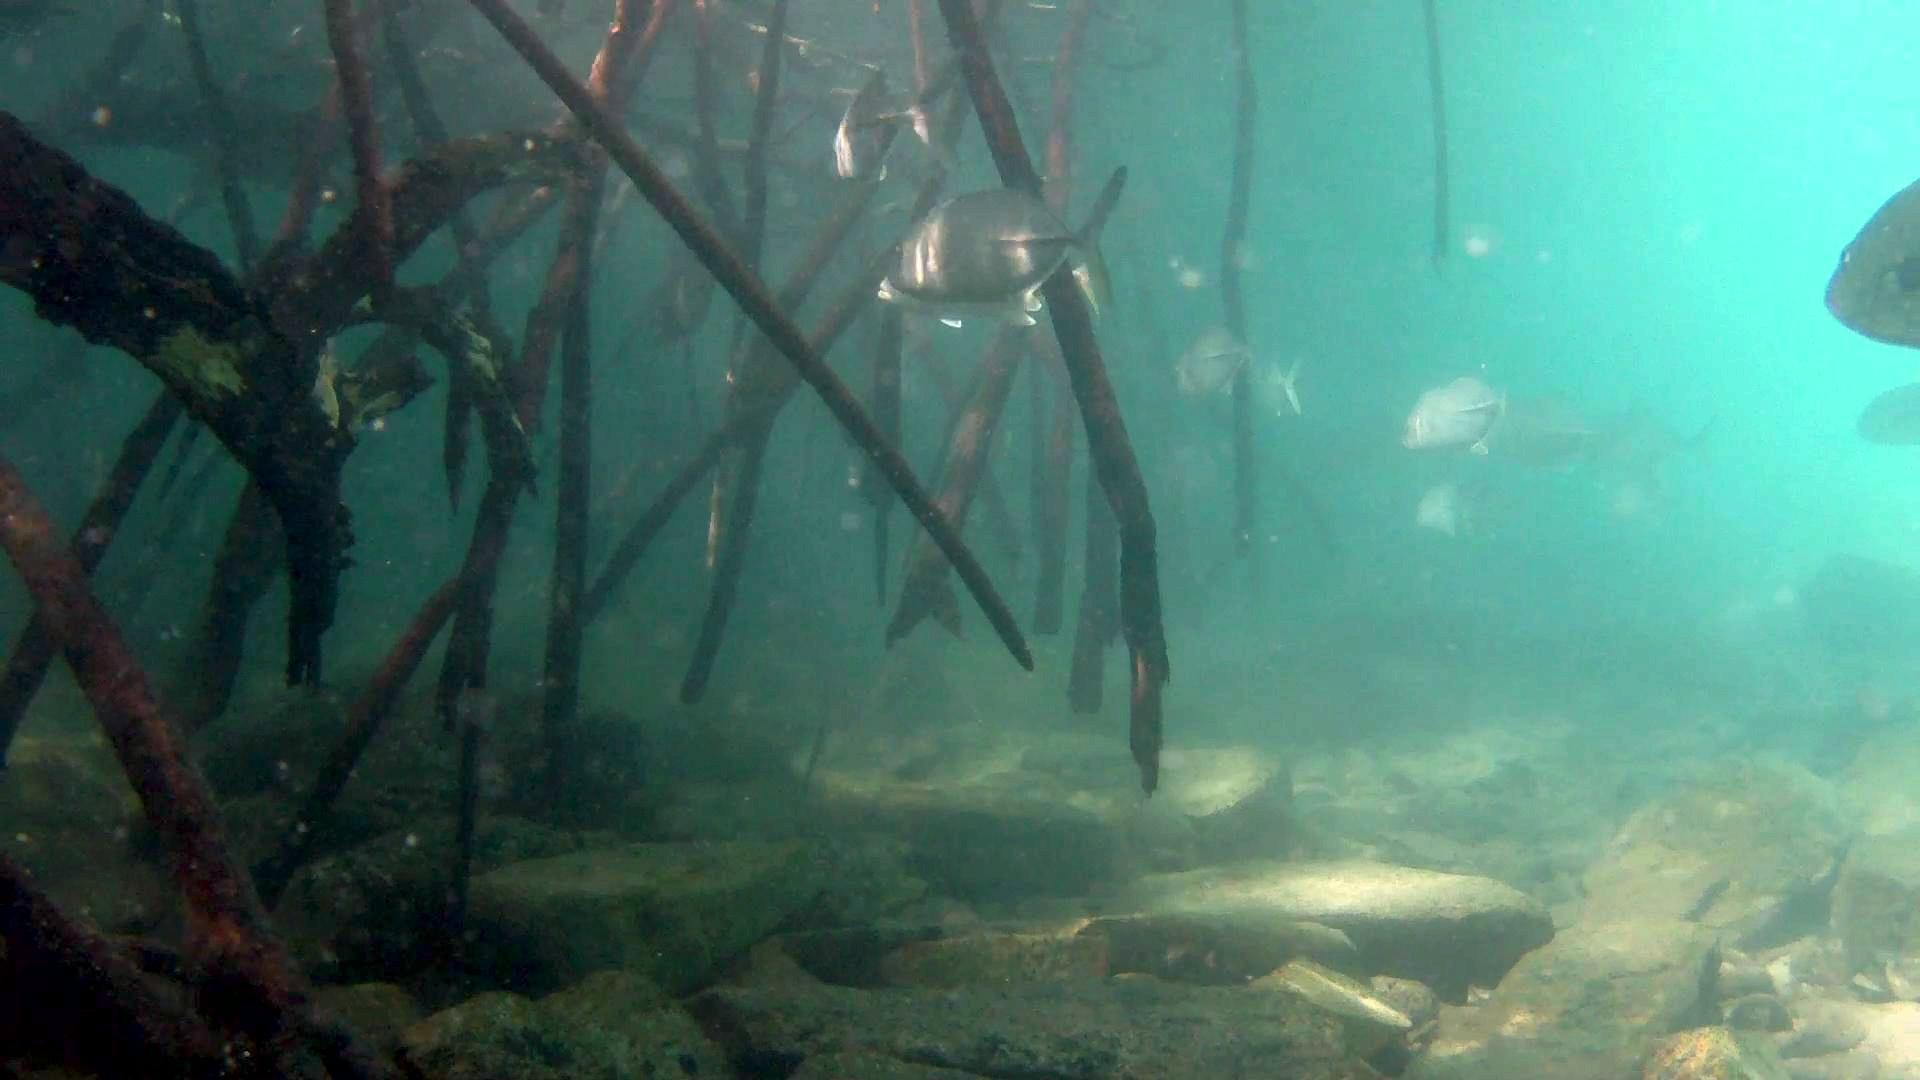caranx: (884, 153, 1135, 322), (1811, 167, 1920, 359)
